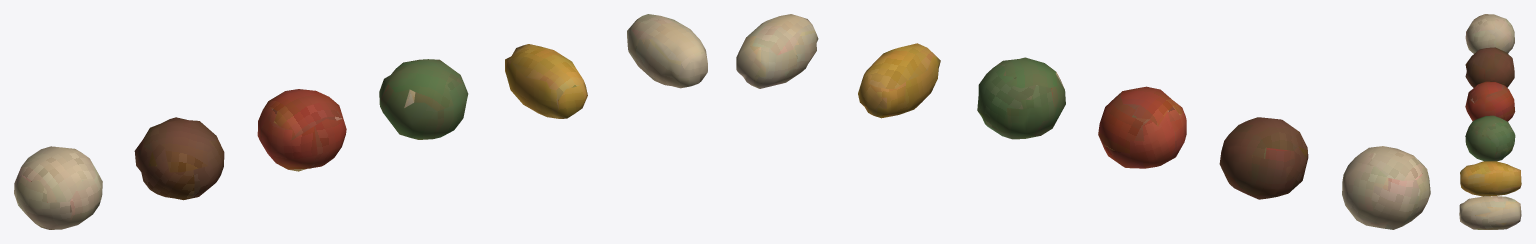
Rendered from food_pellets.glb.
3 views of the same model, side by side, from view 1: azimuth 30°, elevation 25°; view 2: azimuth 150°, elevation 25°; view 3: azimuth 270°, elevation 25° (orthographic). The views are drawn at different scales.
Visible parts, largest first — view 1: prop_food_pellets_felt; view 2: prop_food_pellets_felt; view 3: prop_food_pellets_felt.
Boxes of the visible parts, <box> form: prop_food_pellets_felt: <box>14,14,707,229</box>; prop_food_pellets_felt: <box>736,14,1430,229</box>; prop_food_pellets_felt: <box>1459,14,1521,229</box>.
Bounding box in the file's own units: 0.5807 × 0.0631 × 0.0816.
1 material, 1 textured.
